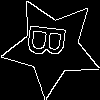B: (27, 22, 75, 60)
